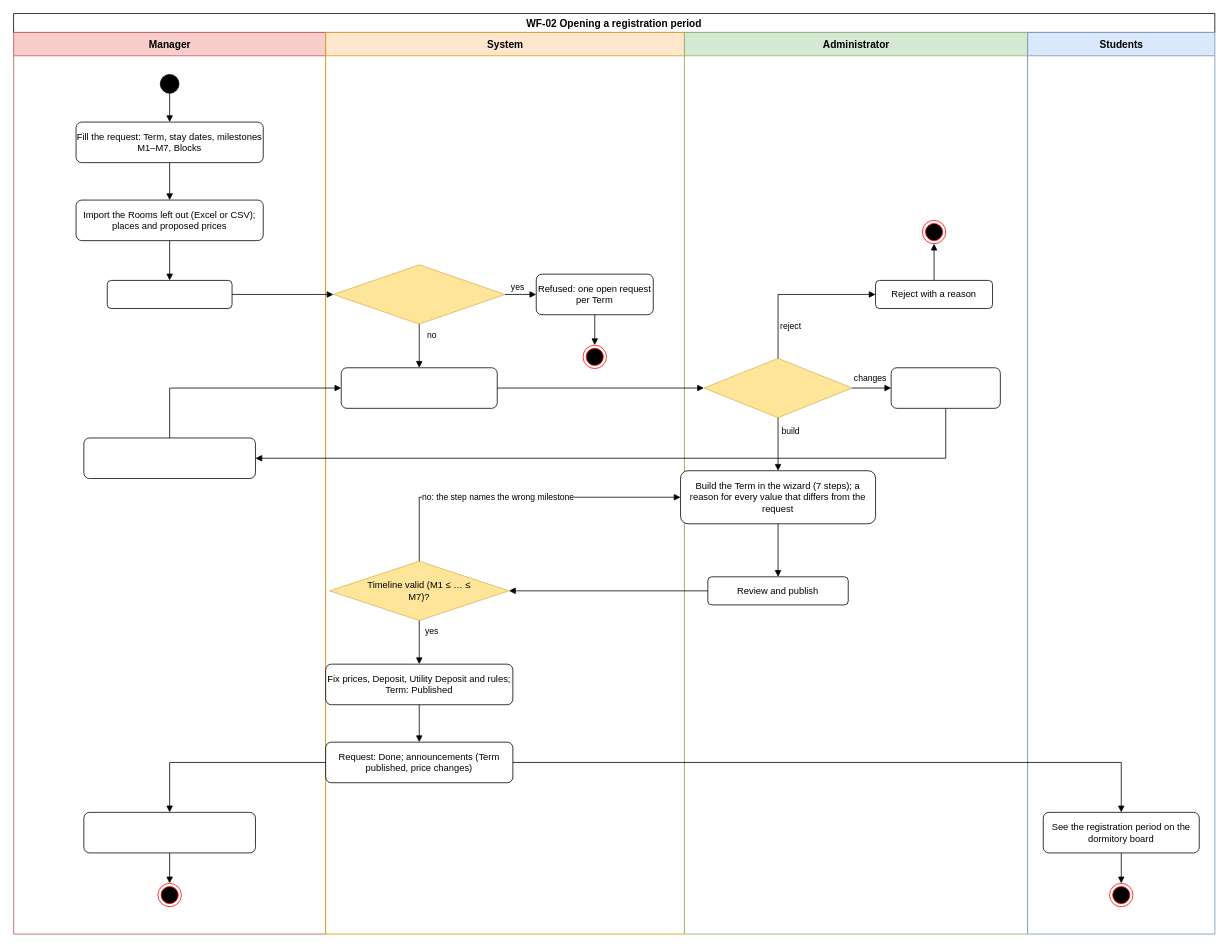
This 1229x948 diagram has some shape labels left out. The centre of each missing label's shape, as x and y in pixels:
"Another open request for this Term?" belongs at [419,294].
"Ask for changes with a note" belongs at [945,387].
"Change the request and send it again" belongs at [169,458].
"Decide on the request" belongs at [777,388].
"Read the values the Admin changed" belongs at [169,832].
"Request: Submitted; the Admin is notified" belongs at [418,387].
"Send the request" belongs at [169,294].
